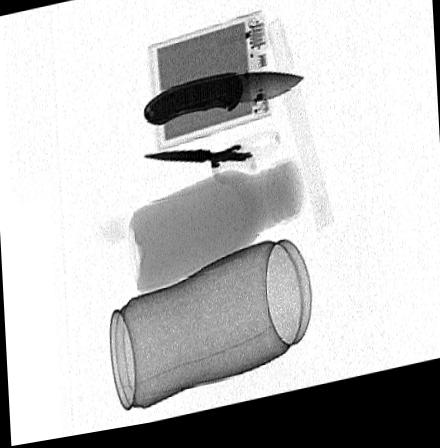Knife: (145, 80, 307, 133)
Powerbank: (148, 17, 271, 156)
Scissors: (141, 135, 279, 194)
